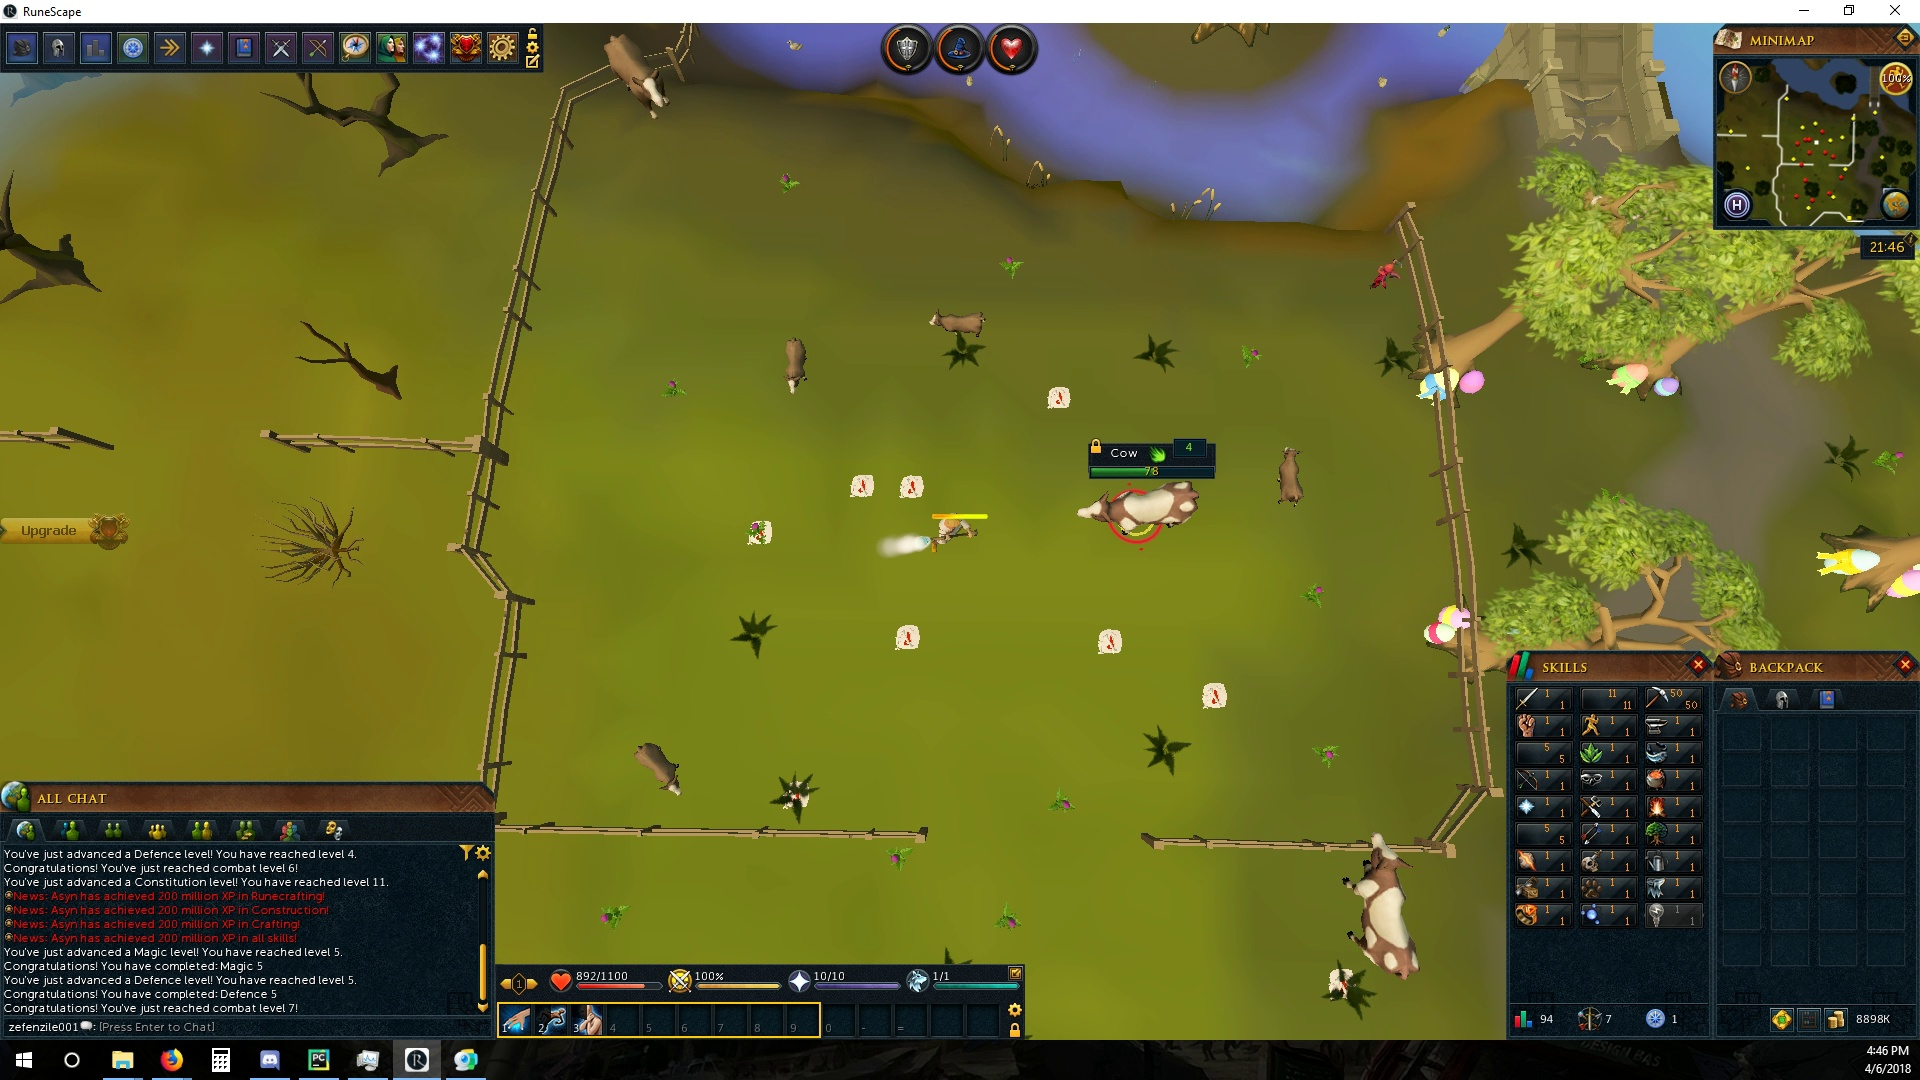calf: (628, 740, 692, 800), (1273, 443, 1311, 512), (781, 334, 810, 396), (924, 311, 989, 339)
cow: (1340, 829, 1422, 982), (1076, 480, 1203, 542), (597, 32, 676, 124)
cow_drop: (891, 622, 923, 654), (843, 468, 876, 498), (1095, 624, 1124, 657), (1044, 380, 1073, 410), (895, 473, 927, 501), (1201, 680, 1228, 709), (1327, 971, 1356, 997), (744, 520, 773, 545)
